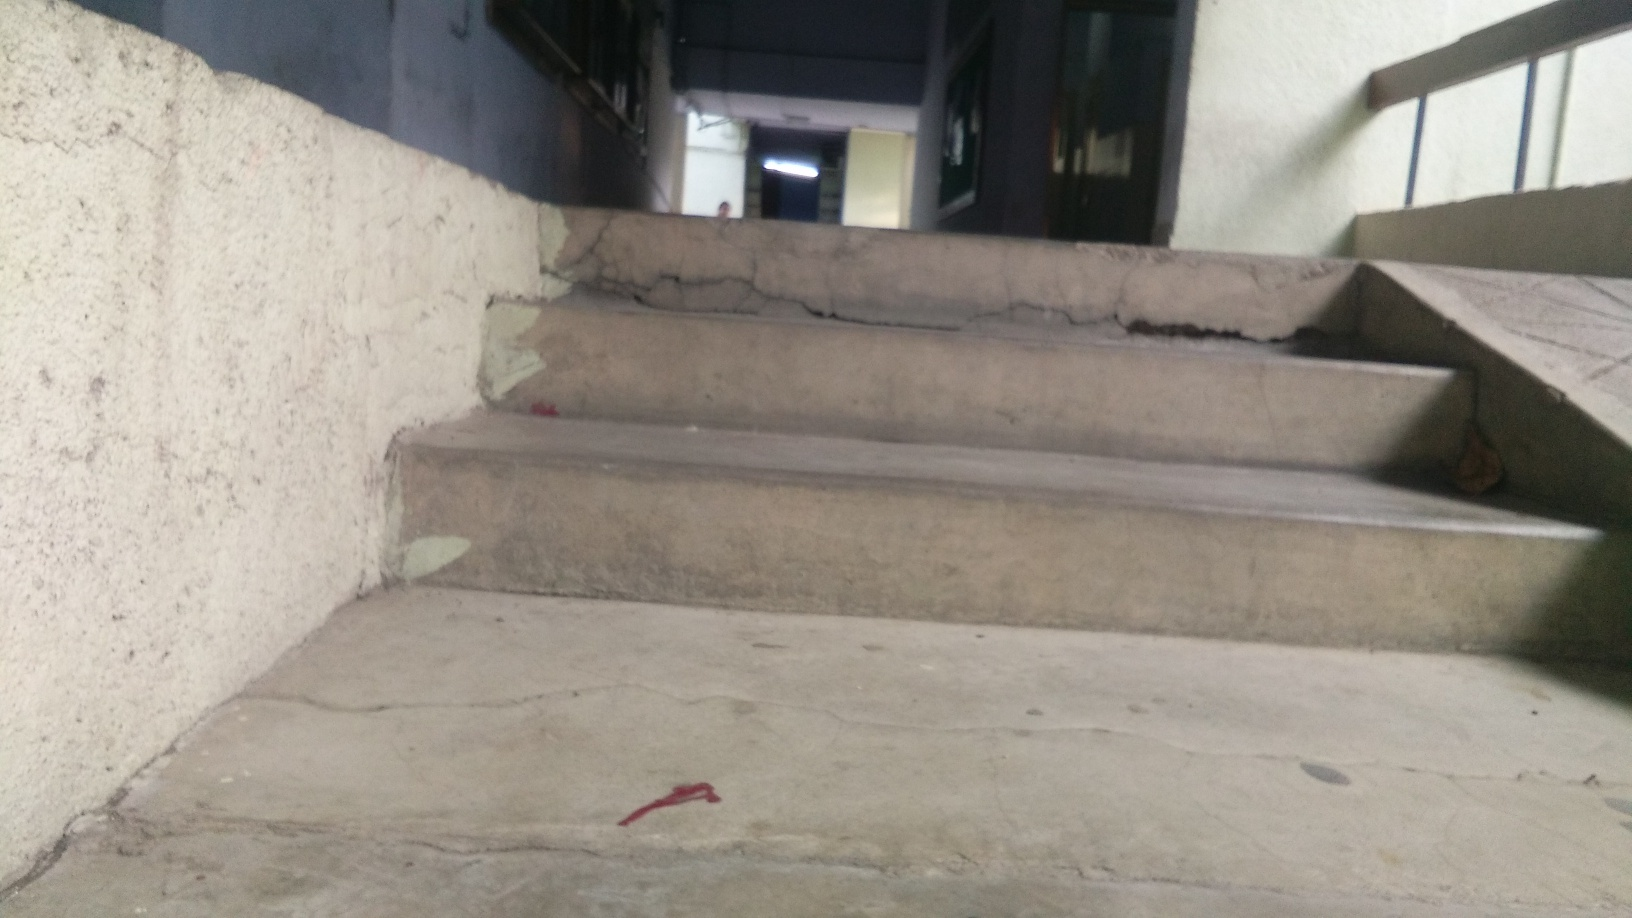stairs_up: (417, 171, 1632, 729)
